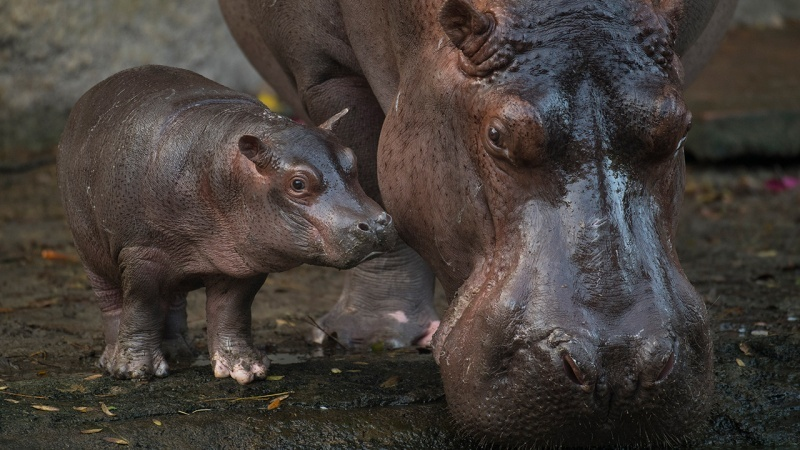hipopotamo: (309, 0, 733, 449), (47, 56, 405, 389)
